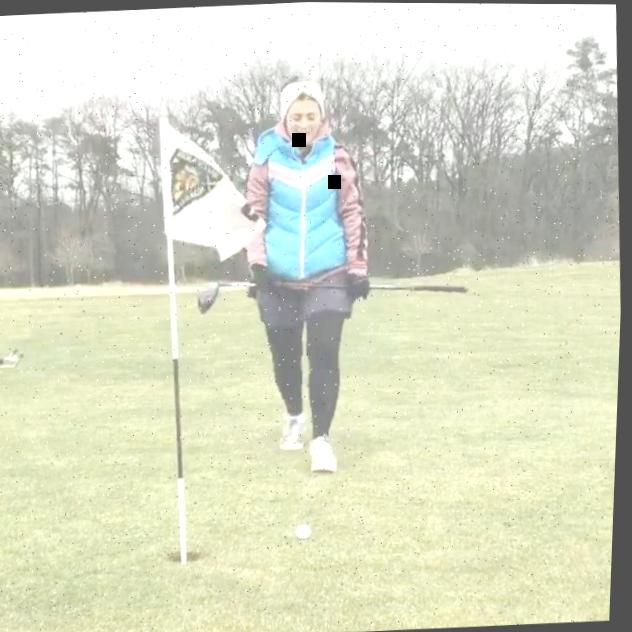ClubHead: (195, 280, 230, 319)
GolfBall: (295, 521, 318, 541)
